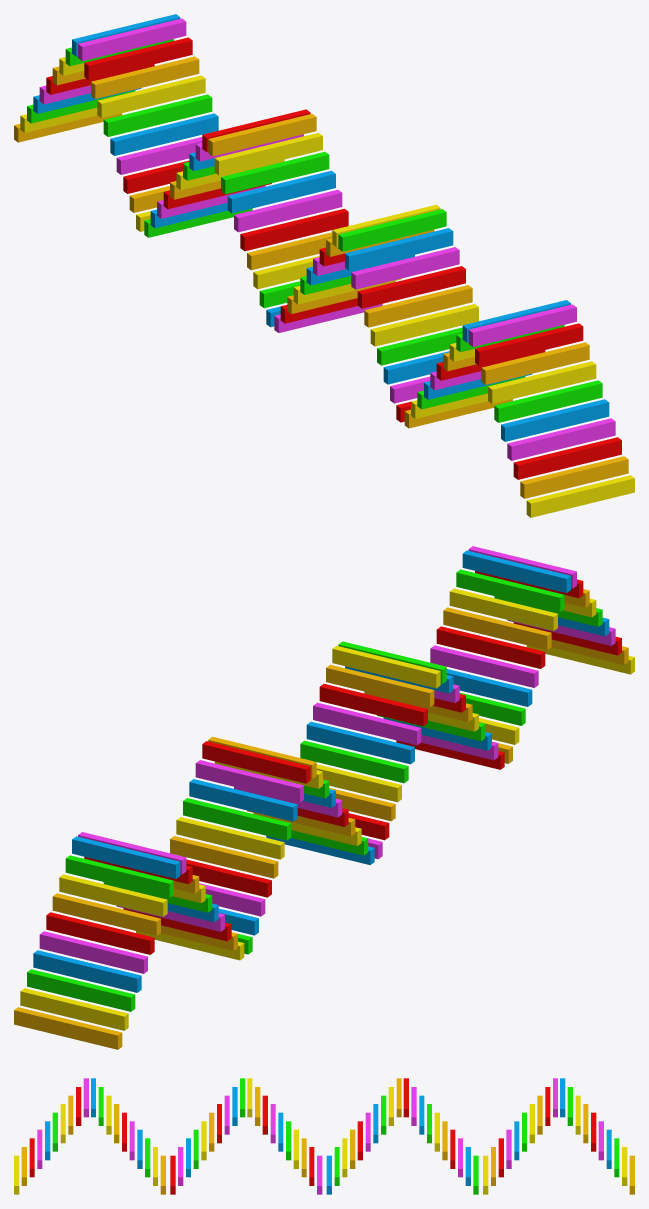
The model's file is lestnica4.fbx.
The picture shows the model from 3 angles, top to bottom: view 1: azimuth 30°, elevation 25°; view 2: azimuth 150°, elevation 25°; view 3: azimuth 270°, elevation 25°; orthographic projection. The views are drawn at different scales.
Parts seen in each view (by area): view 1: Cube.006; view 2: Cube.006; view 3: Cube.006.
Part boxes in pixels (x1,y1,x2,y2): Cube.006: (14,14,634,517); Cube.006: (14,546,634,1049); Cube.006: (14,1078,634,1194).
Size of the model in its own units: 669 by 876 by 5759.
